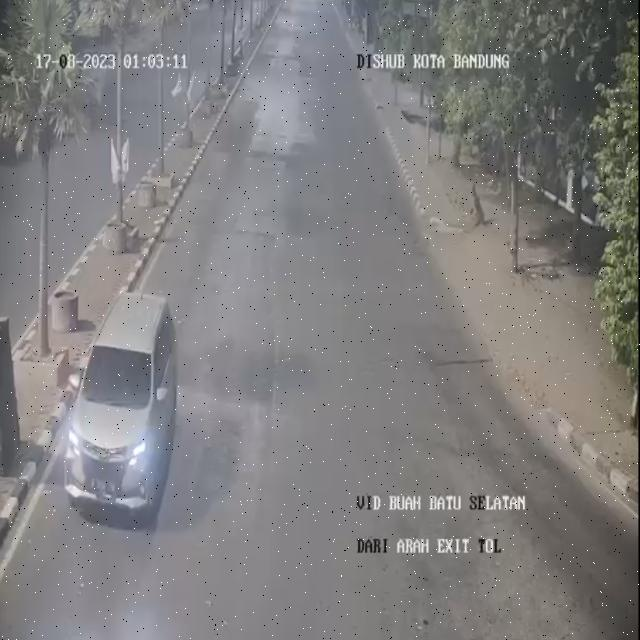cars: (63, 286, 181, 500)
